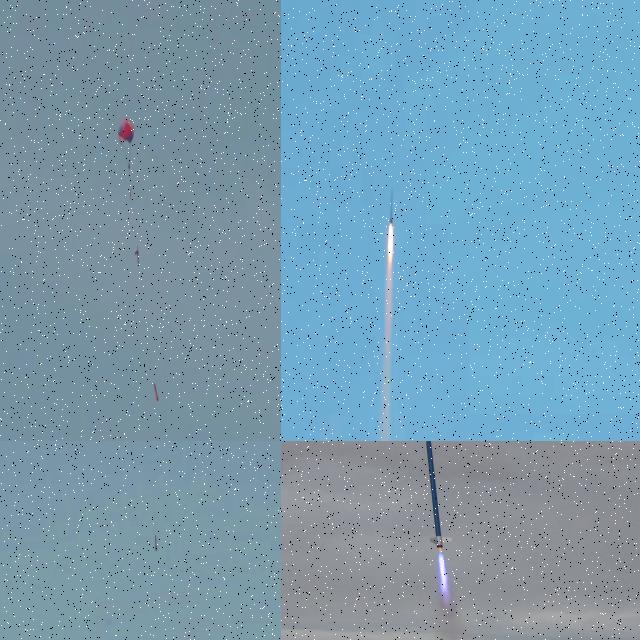Rocket: (424, 441, 453, 548), (389, 189, 393, 223), (154, 384, 159, 402), (154, 534, 158, 552)
